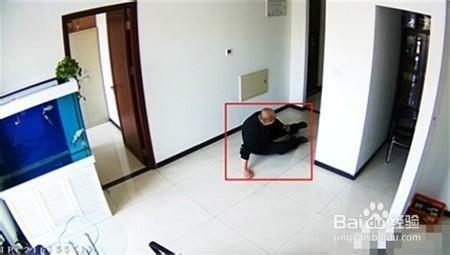Fall-Detected: (233, 103, 312, 174)
